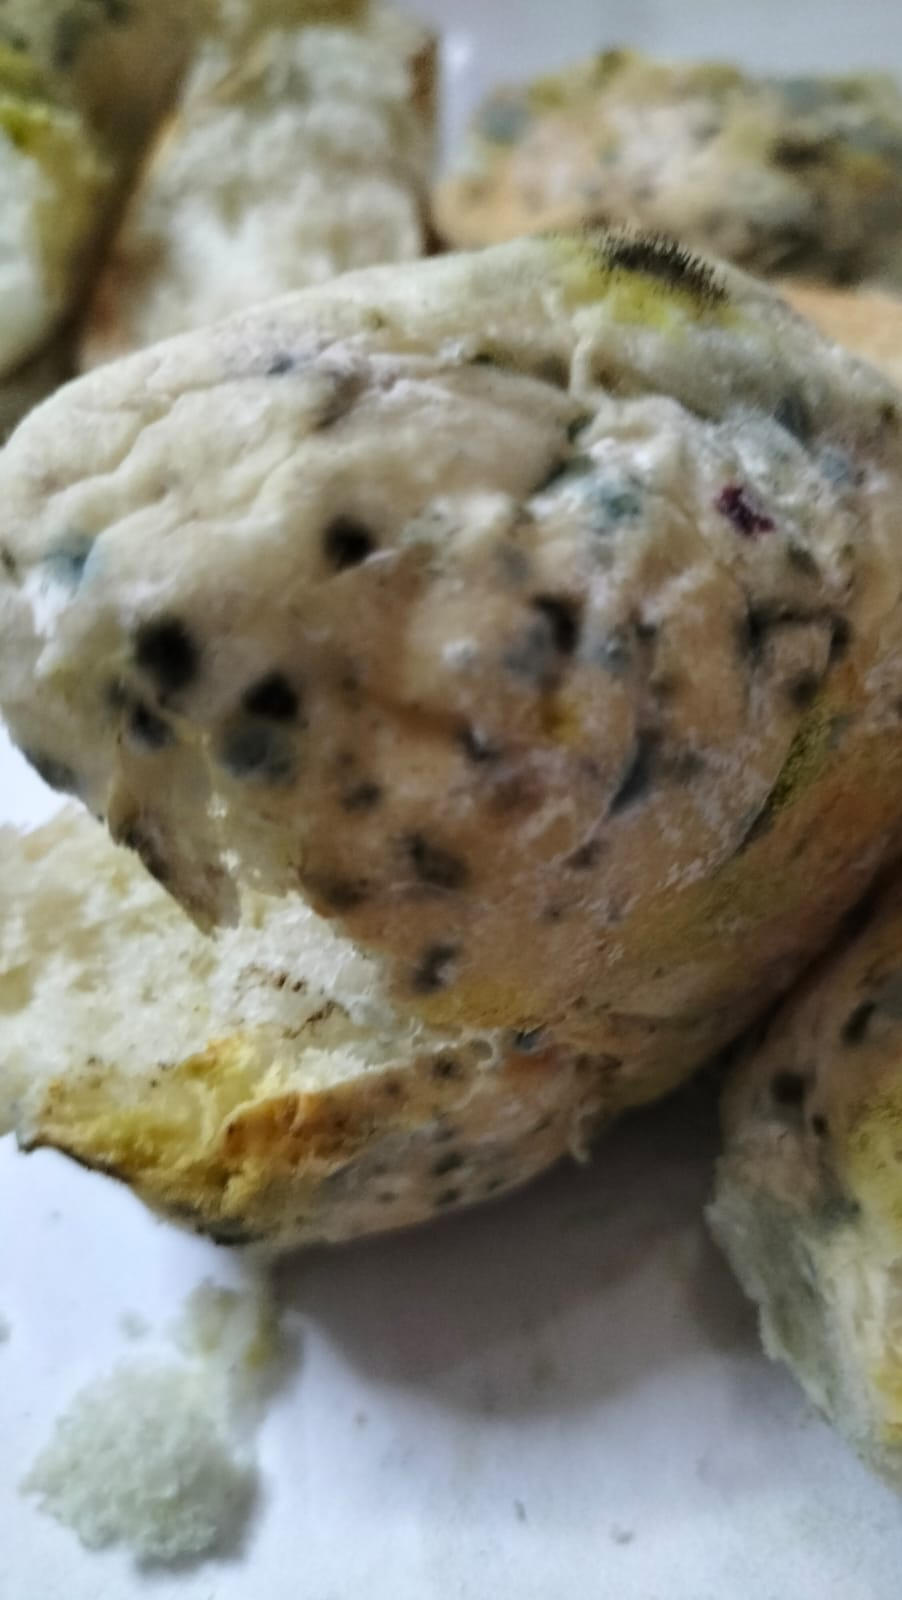mold_bread: (525, 202, 757, 327), (727, 584, 865, 720), (250, 338, 386, 455), (216, 660, 319, 795), (504, 579, 588, 732), (612, 704, 699, 815), (396, 808, 481, 913), (302, 499, 394, 596), (566, 476, 658, 569), (701, 462, 788, 555), (412, 1112, 486, 1215), (130, 607, 224, 684), (600, 607, 683, 684), (288, 855, 376, 924), (35, 522, 110, 601), (393, 940, 481, 997), (328, 748, 393, 824), (553, 820, 606, 884), (410, 1040, 475, 1089)
